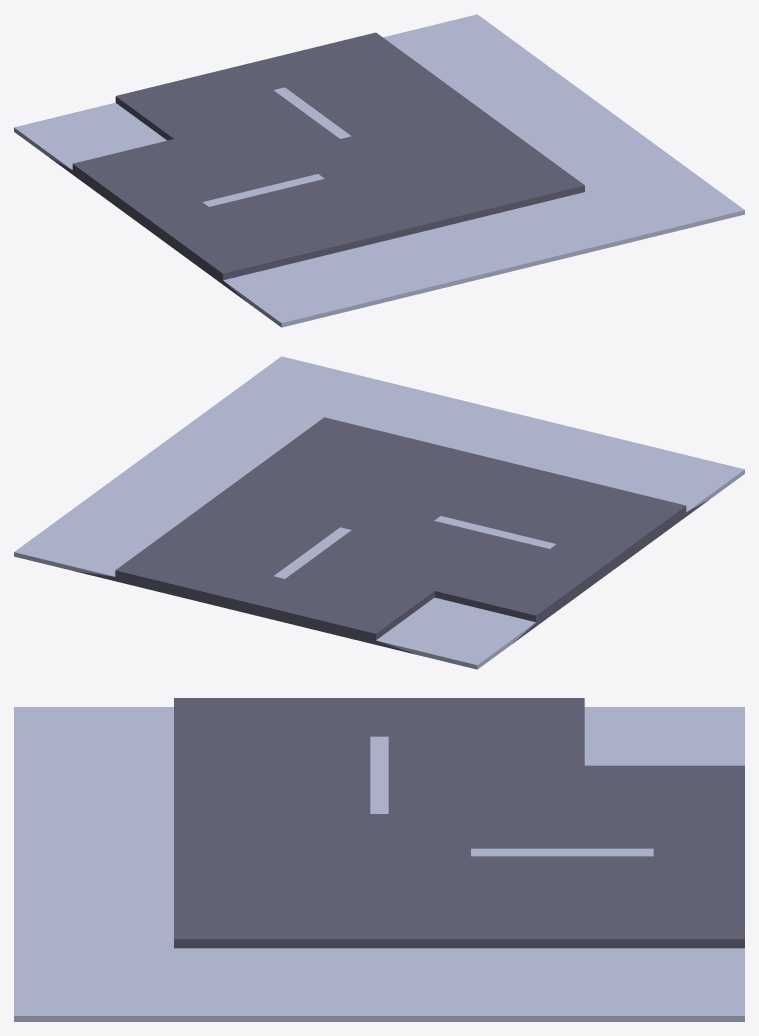
File: road3.glb
3 views of the same model, one above another, from view 1: azimuth 30°, elevation 25°; view 2: azimuth 150°, elevation 25°; view 3: azimuth 270°, elevation 25° (orthographic). The views are drawn at different scales.
Parts seen in each view (by area): view 1: Cube; view 2: Cube; view 3: Cube.
Boxes of the visible parts, x1,y1,x2,y2 form: Cube: (14,14,744,327); Cube: (14,356,744,669); Cube: (14,698,744,1021).
Size of the model in its own units: 2.2 by 0.05 by 2.2.
